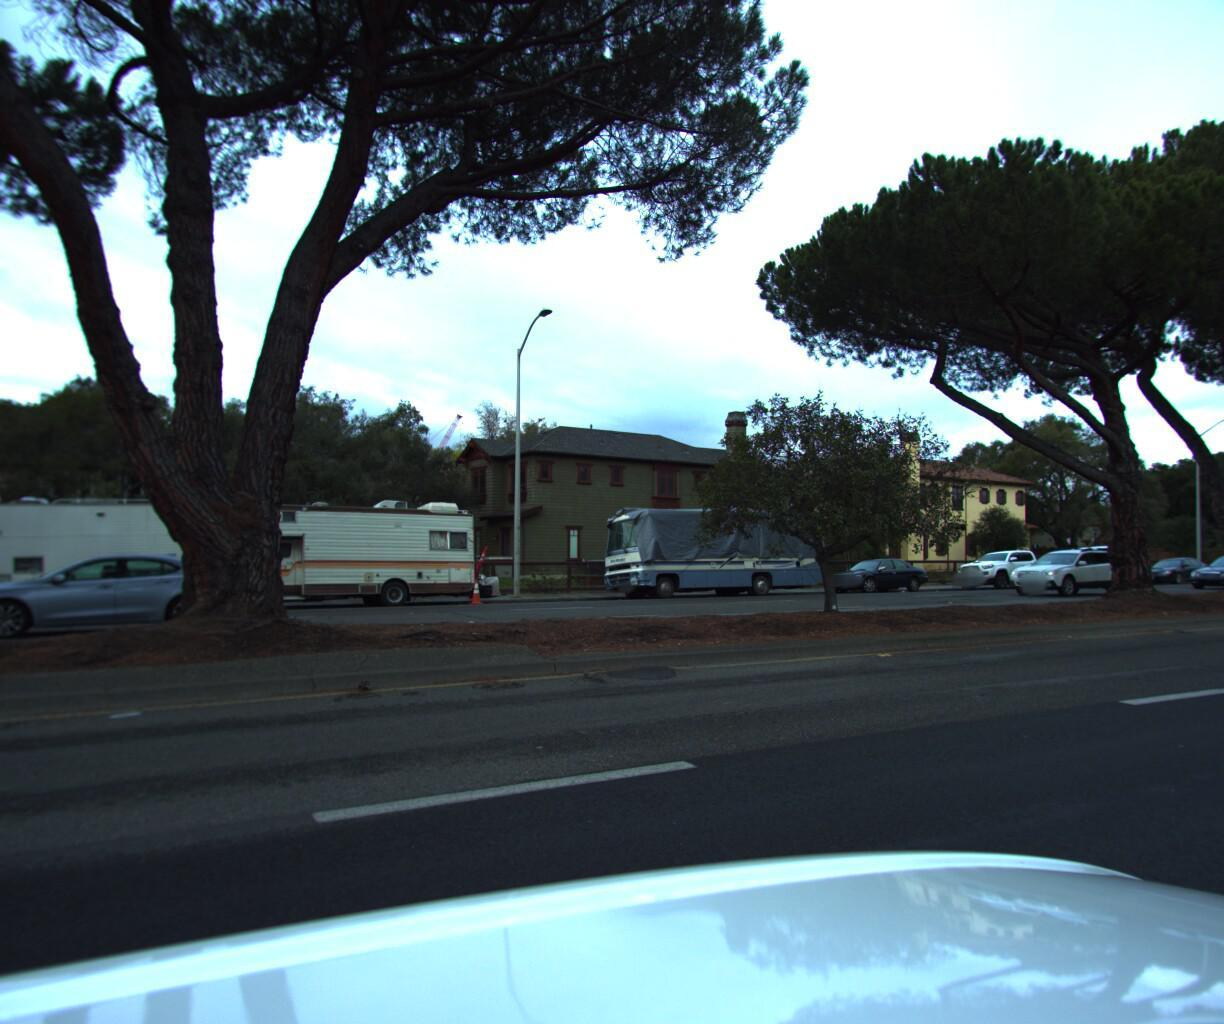car: (998, 541, 1131, 591), (1030, 536, 1146, 585), (947, 542, 1063, 586), (815, 551, 932, 590), (1125, 550, 1212, 579), (1178, 550, 1224, 585)
other_vehicle: (211, 489, 490, 607), (589, 493, 835, 596)
